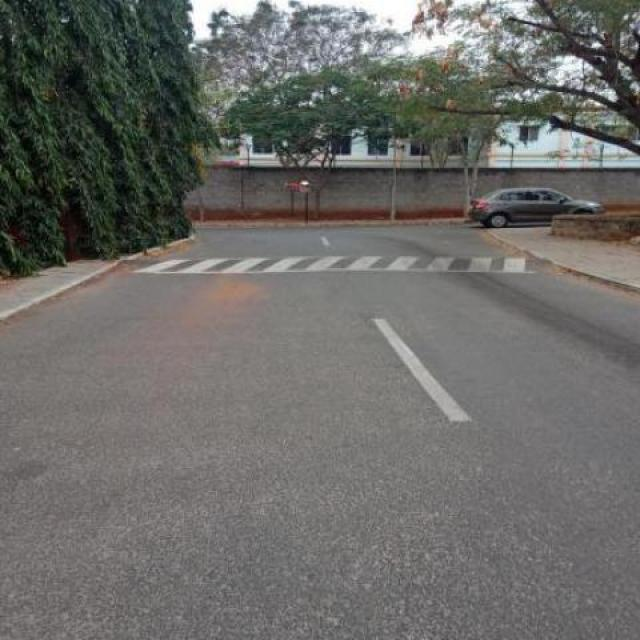Speed Bump: (125, 258, 544, 274)
